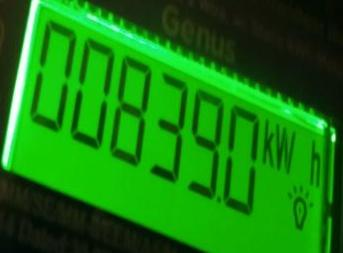.: (262, 115, 326, 189)
1: (28, 24, 74, 135), (73, 42, 115, 151), (223, 109, 259, 218)
4: (149, 69, 190, 186)
9: (109, 56, 153, 169)
:: (184, 90, 223, 196)
